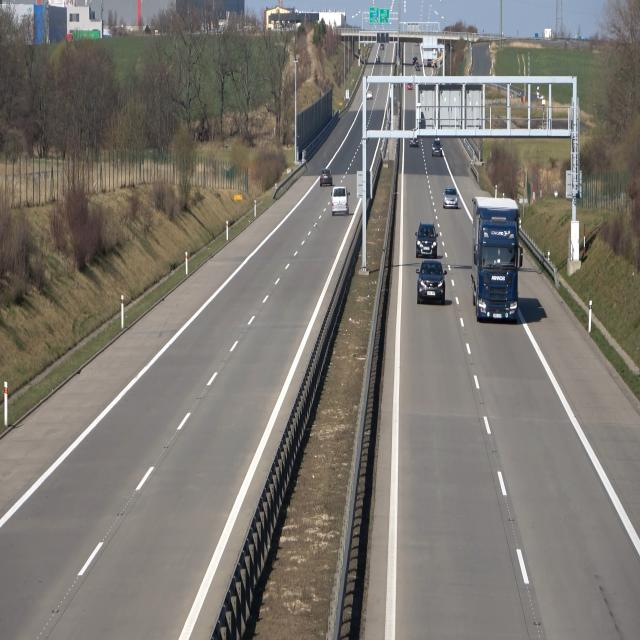Car: (470, 196, 520, 321), (413, 258, 447, 307), (415, 221, 438, 257), (330, 187, 350, 217), (442, 186, 459, 209), (319, 168, 333, 187), (430, 138, 443, 158)
